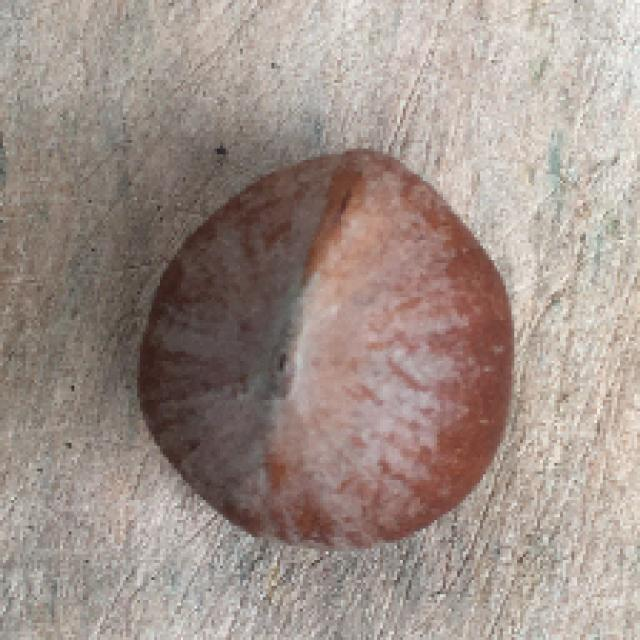QualityHazelnut: (136, 148, 515, 553)
